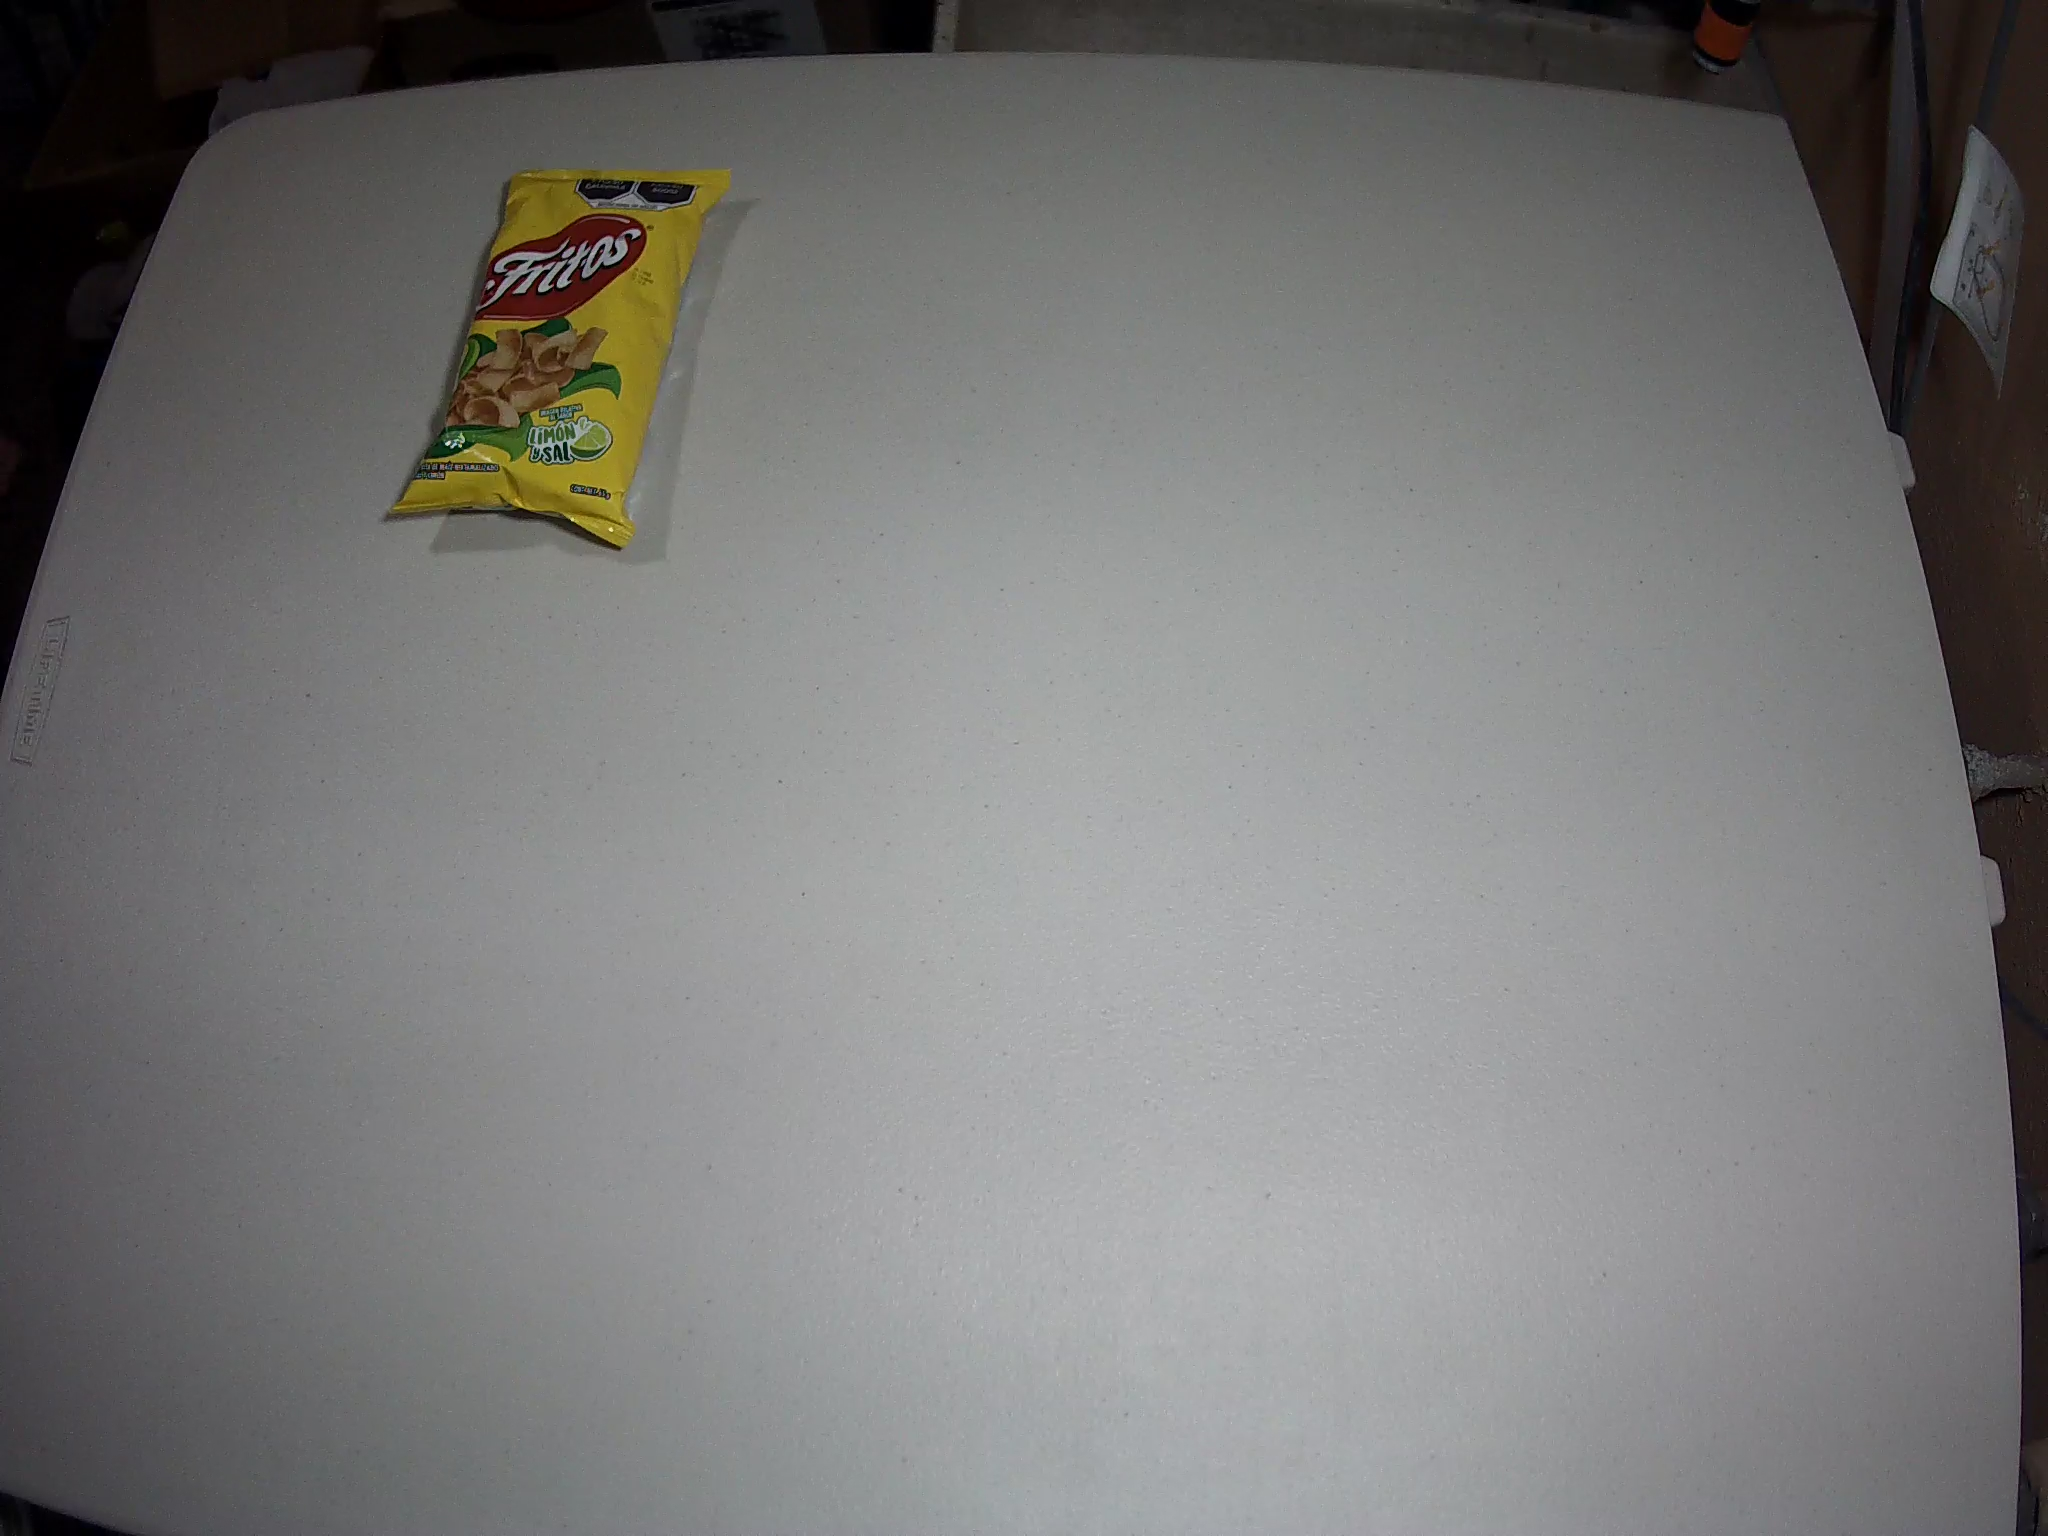FritosSalLimon_65_F: (389, 168, 734, 552)
